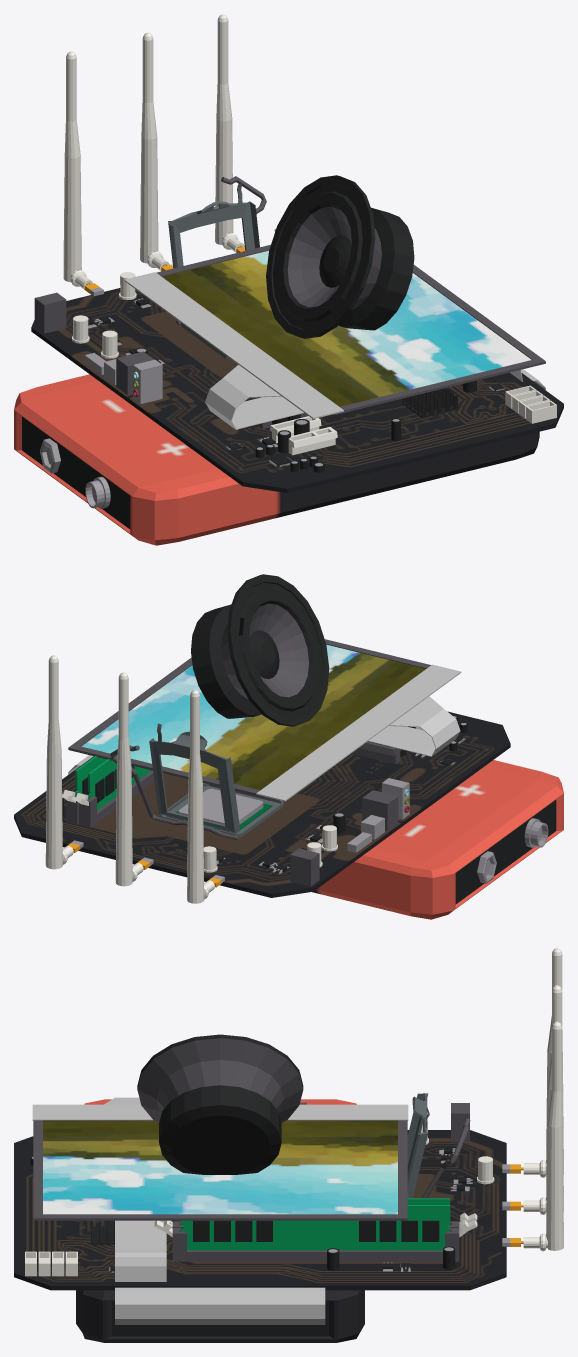
The model's file is Portable computing module.fbx.
The picture shows the model from 3 angles, top to bottom: view 1: azimuth 30°, elevation 25°; view 2: azimuth 150°, elevation 25°; view 3: azimuth 270°, elevation 25°; orthographic projection. The views are drawn at different scales.
Visible parts, largest first — view 1: portable_computing_module; view 2: portable_computing_module; view 3: portable_computing_module.
Part boxes in pixels (x1,y1,x2,y2): portable_computing_module: (14,14,563,545); portable_computing_module: (14,574,563,919); portable_computing_module: (14,948,563,1342).
Size of the model in its own units: 1.63 by 1.03 by 1.82.
